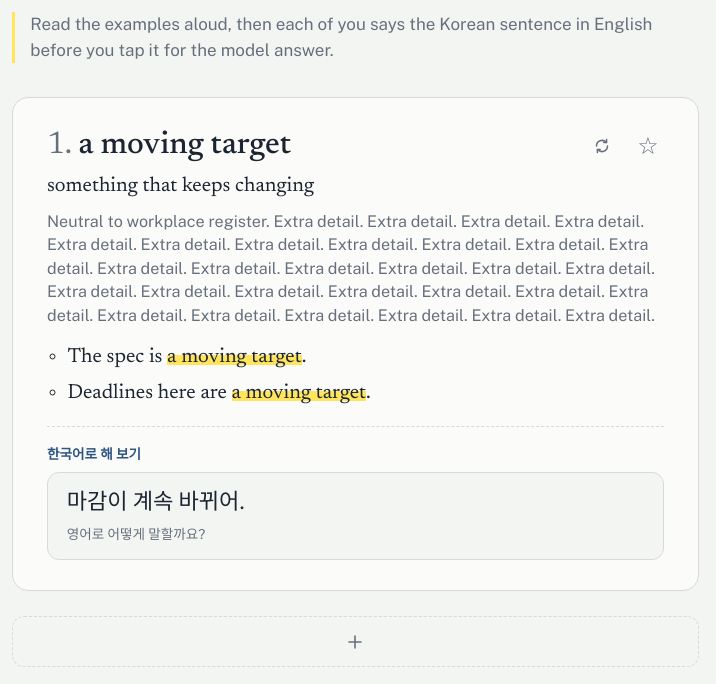
Test case: ExpressionsTab › flips the Korean example under the examples to its English model answer and back
Expected: the text "영어로 어떻게 말할까요?" is shown, [67, 524, 206, 544]
Expected: the text "The deadline is" is not shown
Click the button "마감이 계속 바뀌어. 영어로 어떻게 말할까요?": (156, 504) [47, 472, 664, 560]
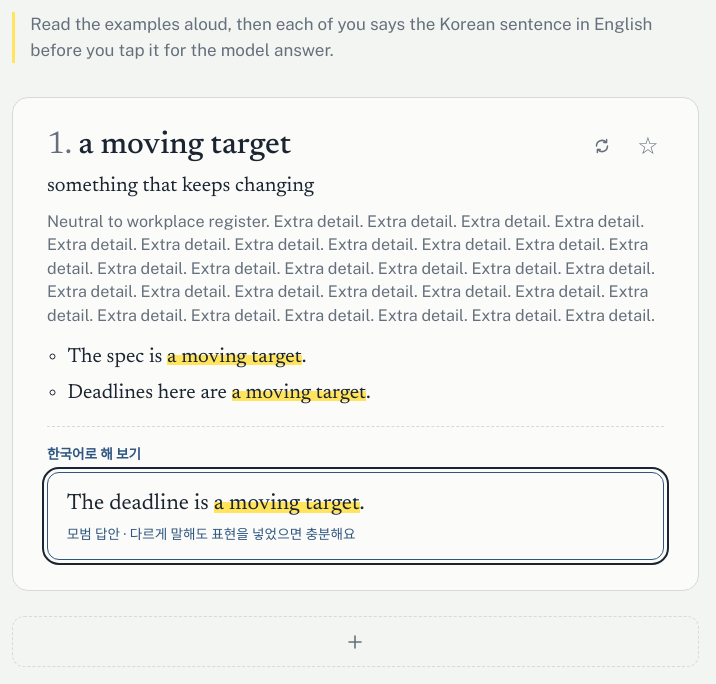
Result: the text "a moving target" below "한국어로 해 보기" is shown at [214, 493, 360, 515]
Result: the button "마감이 계속 바뀌어." is gone
Result: the button "영어로 어떻게 말할까요?" is gone
Click the button named "마감이 계속 바뀌어.": (355, 516) [47, 472, 664, 560]
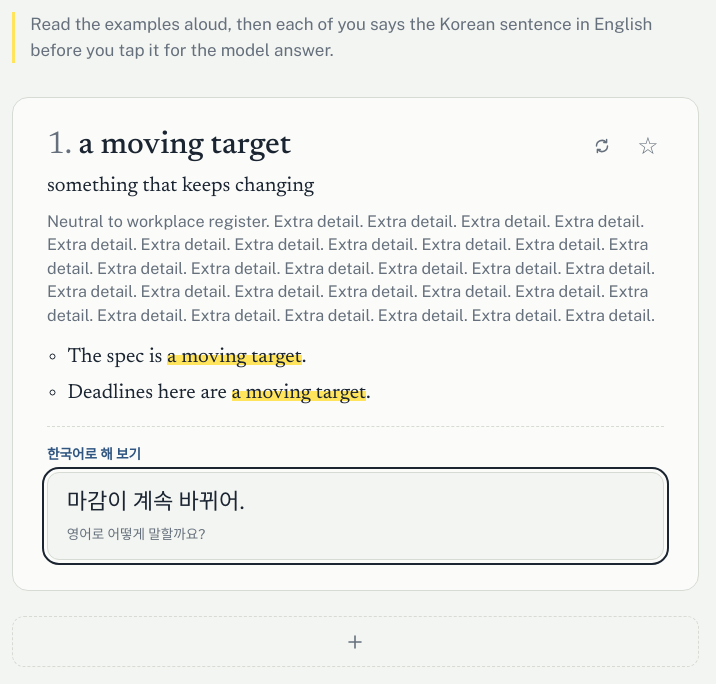
Result: the text "마감이 계속 바뀌어." is shown at [67, 488, 244, 520]
